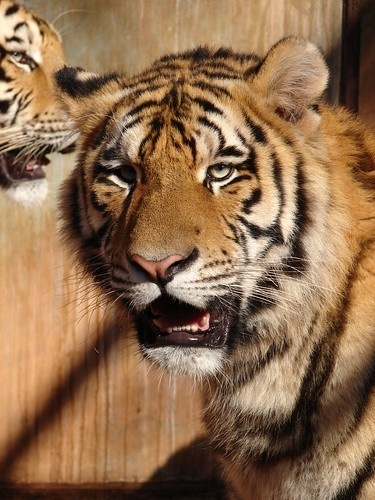tigre: (63, 33, 375, 496), (1, 1, 78, 209)
